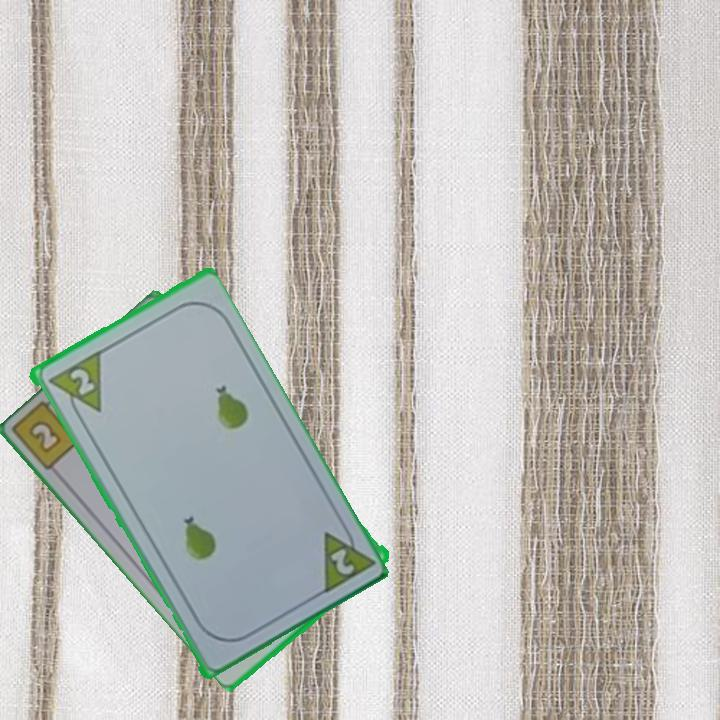2b: (25, 416, 65, 457)
2p: (65, 364, 97, 399), (326, 544, 357, 578)
